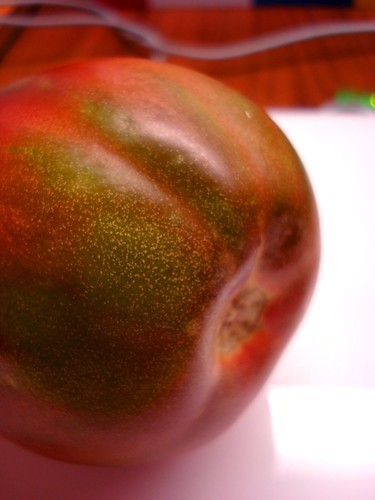tomato: (1, 56, 319, 465)
